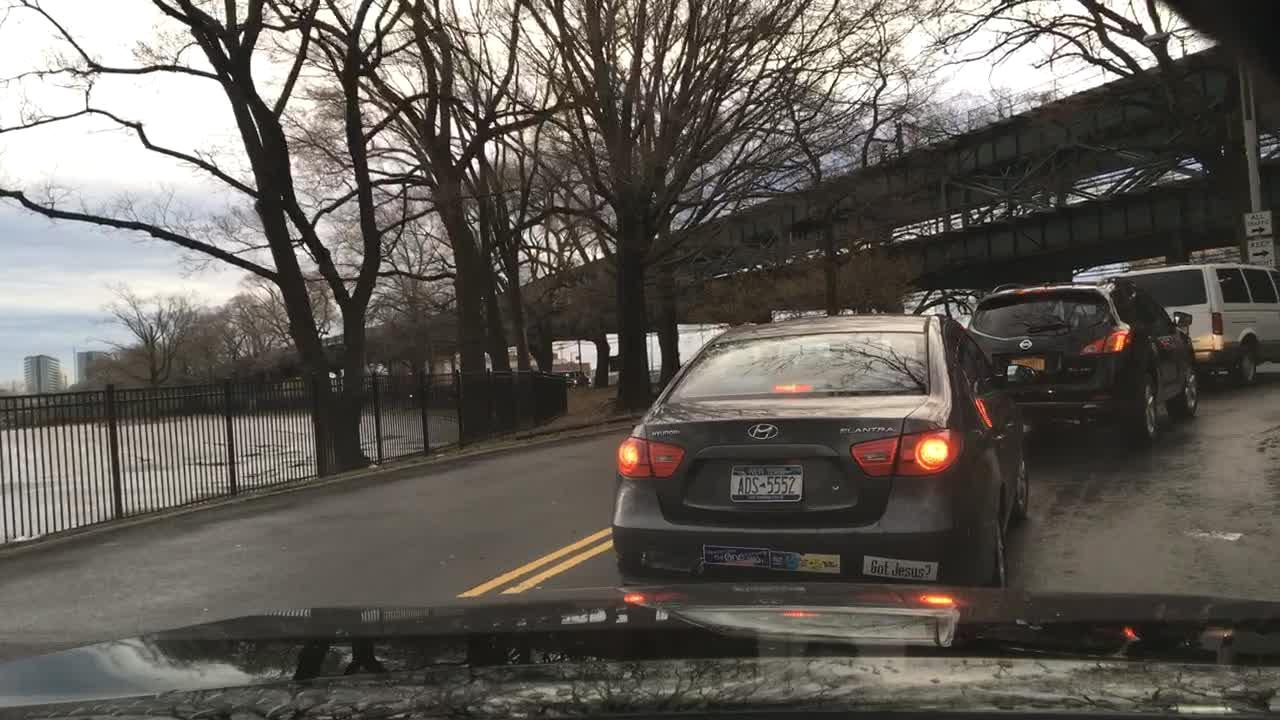Hyundai: (733, 412, 792, 446)
Nissan: (1012, 329, 1047, 357)
